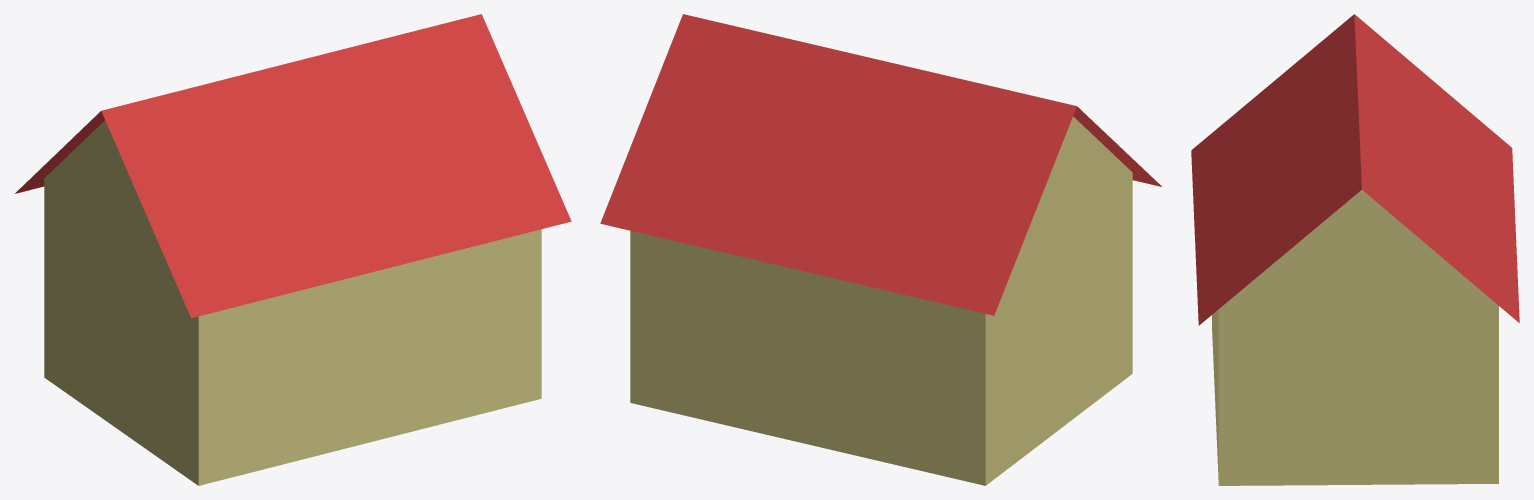
3 views of the same model, side by side, from view 1: azimuth 30°, elevation 25°; view 2: azimuth 150°, elevation 25°; view 3: azimuth 270°, elevation 25° (orthographic). The views are drawn at different scales.
Size of the model in its own units: 15.48 by 12.07 by 12.32.
